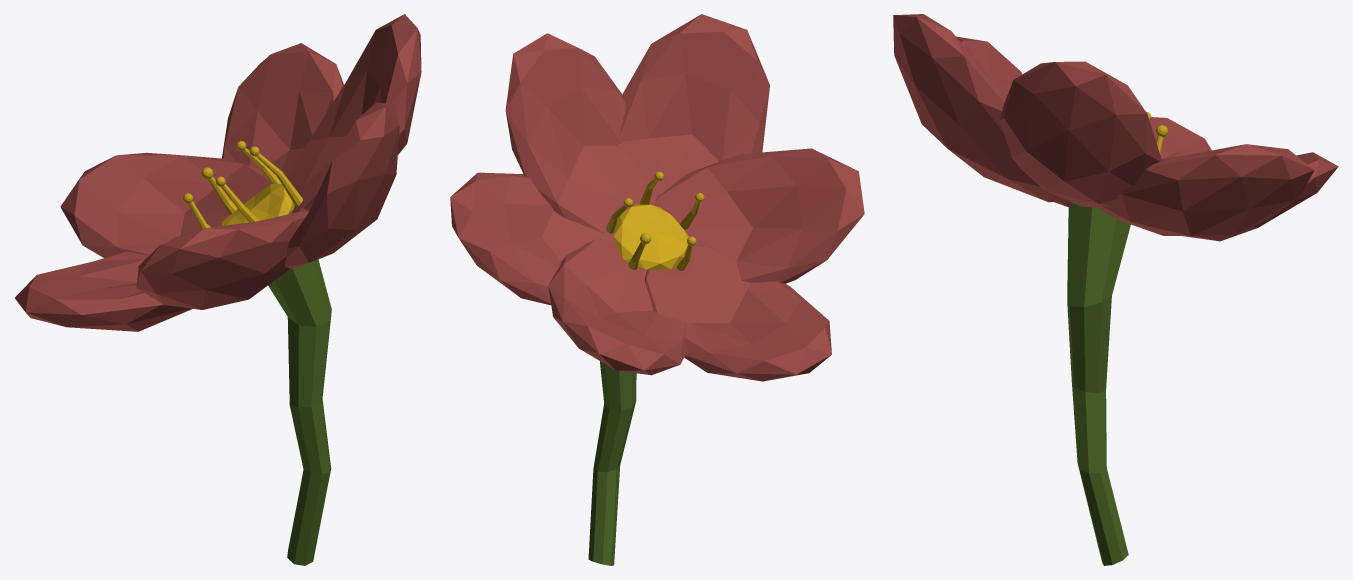
Rendered from lilyPad_Flower.fbx.
3 renders of one model, left to right at view 1: azimuth 30°, elevation 25°; view 2: azimuth 150°, elevation 25°; view 3: azimuth 270°, elevation 25°, orthographic. The views are drawn at different scales.
Parts seen in each view (by area): view 1: Icosphere.001, Icosphere.003, Cylinder, Icosphere.002, Icosphere.005, Icosphere.004, Icosphere, midFlower, yellowThing.004; view 2: Icosphere.003, Icosphere.005, Icosphere.004, Icosphere, Icosphere.001, Icosphere.002, Cylinder, midFlower; view 3: Icosphere.004, Cylinder, Icosphere.002, Icosphere.005, Icosphere.003, Icosphere.001, Icosphere.
Part boxes in pixels (bbox=[...]): Icosphere.001: bbox=[60, 152, 271, 258]; Icosphere.003: bbox=[136, 207, 309, 309]; Cylinder: bbox=[268, 259, 331, 565]; Icosphere.002: bbox=[222, 43, 343, 176]; Icosphere.005: bbox=[284, 102, 399, 269]; Icosphere.004: bbox=[287, 14, 421, 212]; Icosphere: bbox=[15, 224, 220, 331]; midFlower: bbox=[221, 184, 294, 225]; yellowThing.004: bbox=[249, 146, 302, 206]; Icosphere.003: bbox=[654, 148, 864, 283]; Icosphere.005: bbox=[617, 14, 769, 196]; Icosphere.004: bbox=[505, 33, 657, 233]; Icosphere: bbox=[645, 245, 831, 381]; Icosphere.001: bbox=[548, 239, 687, 375]; Icosphere.002: bbox=[450, 172, 615, 305]; Cylinder: bbox=[588, 361, 636, 565]; midFlower: bbox=[613, 204, 688, 270]; Icosphere.004: bbox=[1000, 61, 1161, 207]; Cylinder: bbox=[1067, 202, 1130, 565]; Icosphere.002: bbox=[1099, 144, 1314, 236]; Icosphere.005: bbox=[893, 14, 1066, 202]; Icosphere.003: bbox=[956, 36, 1070, 207]; Icosphere.001: bbox=[1183, 152, 1338, 241]; Icosphere: bbox=[1149, 117, 1211, 158].
Bounding box in the file's own units: 42.2 × 59.25 × 43.85.
